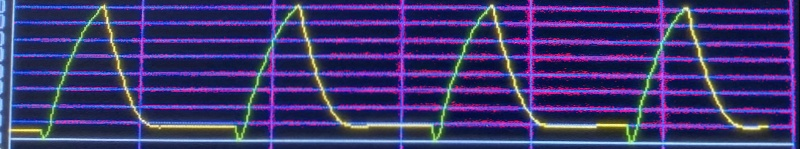leakage: (0, 0, 774, 149)
